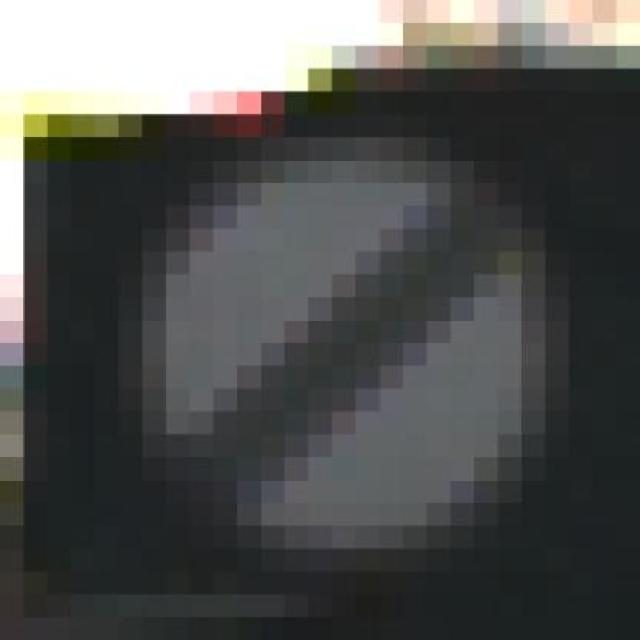End of all speed and passing limits: (118, 91, 570, 572)
